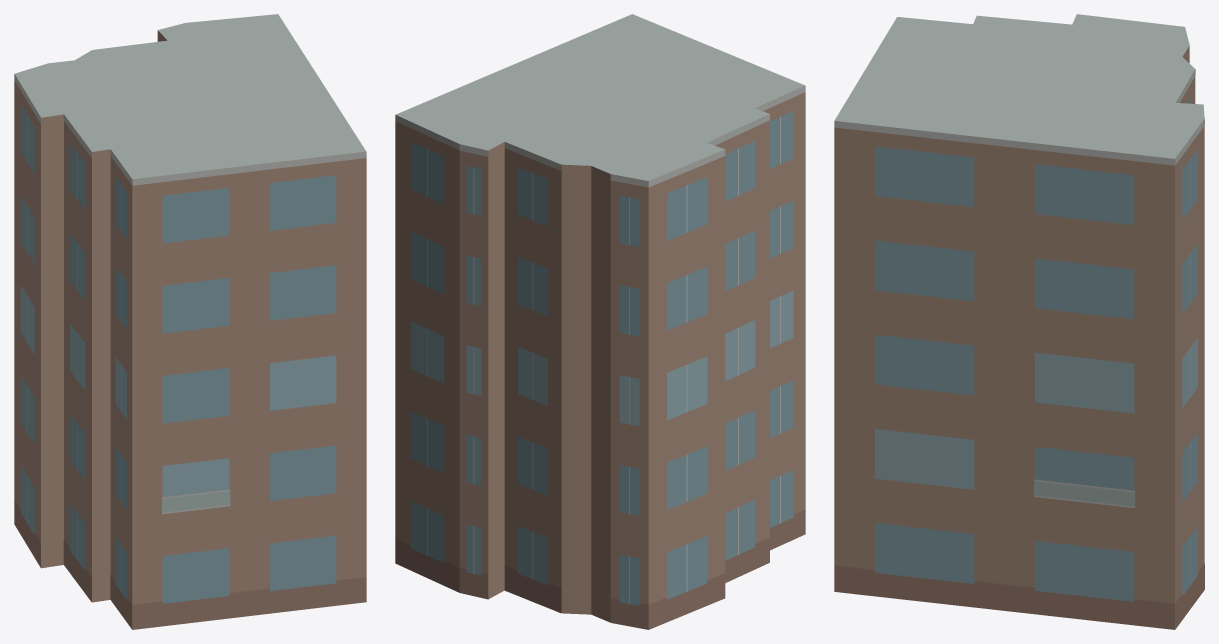
File: survey-upis-32476198.glb
3 renders of one model, left to right at view 1: azimuth 30°, elevation 25°; view 2: azimuth 150°, elevation 25°; view 3: azimuth 270°, elevation 25°, orthographic. The views are drawn at different scales.
Visible parts, largest first — view 1: survey-upis-32476198.tmp; view 2: survey-upis-32476198.tmp; view 3: survey-upis-32476198.tmp.
Part boxes in pixels (x1,y1,x2,y2): survey-upis-32476198.tmp: [14, 14, 366, 629]; survey-upis-32476198.tmp: [395, 14, 805, 629]; survey-upis-32476198.tmp: [834, 14, 1204, 629].
Bounding box in the file's own units: 11.3 × 17.1 × 12.2.
